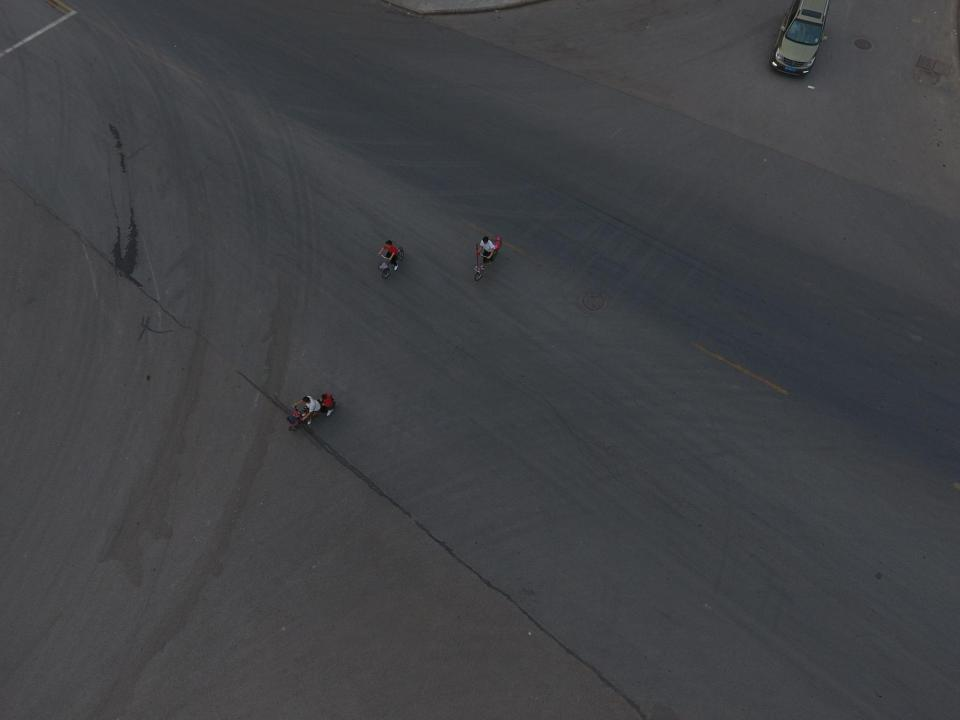car: (770, 0, 832, 78)
